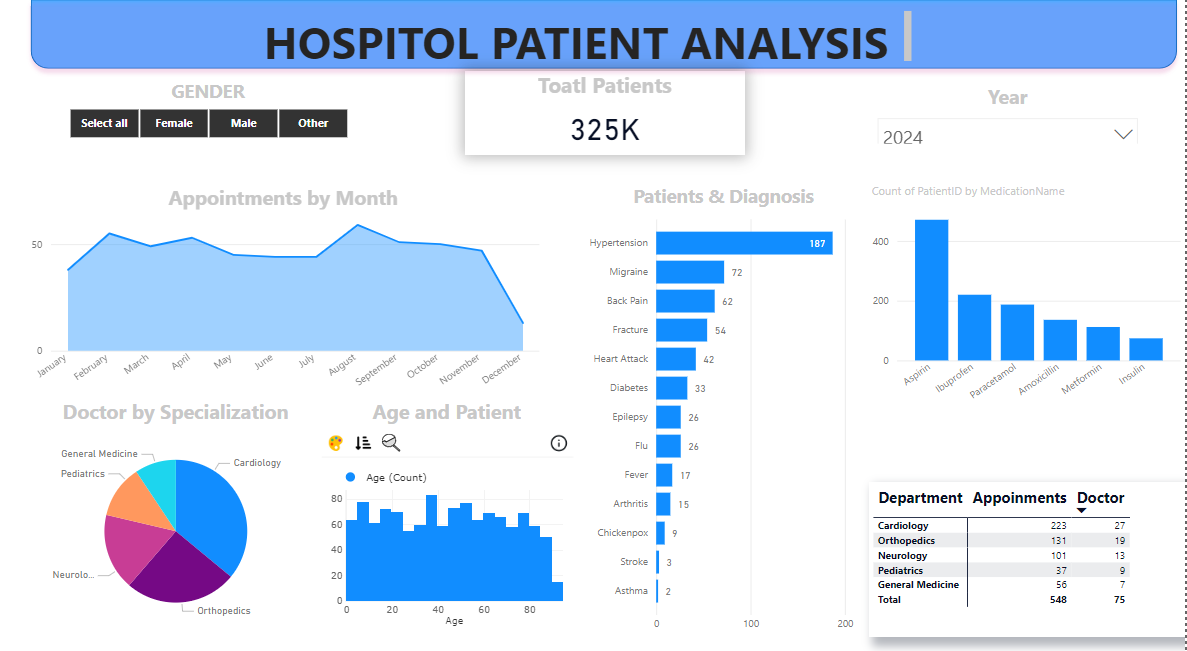

What the dashboard file says about the page in this screenshot:
{"tool":"powerbi","page":{"name":"Page 1","canvas":[1280,720],"ordinal":0},"visuals":[{"type":"pieChart","title":" Doctor by Specialization","fields":{"Y":["CountNonNull(Doctors.DoctorID)"],"Category":["Doctors.Specialization"]},"box":[49.7,438.6,278.6,259.3],"z":0},{"type":"histogramF963F133BA02A0B35D286F09F80E9C78","title":"Age and Patient","fields":{"col_2":["Patients.Age"],"__UNSUMMARIZE_BY":["Patients.PatientID"]},"box":[342.1,438.6,281.4,259.3],"z":1000},{"type":"slicer","title":"GENDER","fields":{"Values":["Patients.Gender"]},"box":[50.6,93.2,348.4,70.9],"z":2000},{"type":"pivotTable","fields":{"Rows":["Doctors.Specialization"],"Values":["CountNonNull(Appointments.PatientID)","Count(Appointments.DoctorID)"]},"box":[937.9,529.7,342.1,168.3],"z":3000},{"type":"barChart","title":"Patients & Diagnosis","fields":{"Category":["Appointments.Diagnosis"],"Y":["CountNonNull(Appointments.PatientID)"]},"box":[625.4,206.5,311.7,492.4],"z":4000},{"type":"shape","box":[24.8,0,1255.2,93.8],"z":5000},{"type":"textbox","box":[263.3,16.2,725.1,68.9],"z":6000},{"type":"lineChart","fields":{"Category":["Appointments.AppointmentDate.Variation.Date Hierarchy.Month"],"Y":["CountNonNull(Appointments.Diagnosis)"]},"box":[24.8,206.9,562.8,231.7],"z":7000},{"type":"clusteredColumnChart","fields":{"Category":["Medications.MedicationName"],"Y":["CountNonNull(Medications.PatientID)"]},"box":[935.2,206.5,343.5,246.2],"z":8000},{"type":"slicer","title":"Year","fields":{"Values":["Appointments.AppointmentDate.Variation.Date Hierarchy.Year"]},"box":[937.9,99.3,300.7,66.2],"z":9000},{"type":"card","title":"Toatl Patients","fields":{"Values":["Sum(Appointments.PatientID)"]},"box":[502.3,85.1,301.8,91.1],"z":10000}]}

Visuals, with their boxes in screenshot pixels (x1, y1, x2, y2), scaled from the page's 1280x720 canvas onto the 1187x651 screenshot:
" Doctor by Specialization" pieChart: {"x1": 46, "y1": 397, "x2": 304, "y2": 631}
"Age and Patient" histogramF963F133BA02A0B35D286F09F80E9C78: {"x1": 317, "y1": 397, "x2": 578, "y2": 631}
"GENDER" slicer: {"x1": 47, "y1": 84, "x2": 370, "y2": 148}
pivotTable - Doctors.Specialization x CountNonNull(Appointments.PatientID): {"x1": 870, "y1": 479, "x2": 1186, "y2": 631}
"Patients & Diagnosis" barChart: {"x1": 580, "y1": 187, "x2": 869, "y2": 632}
shape: {"x1": 23, "y1": 0, "x2": 1186, "y2": 85}
textbox: {"x1": 244, "y1": 15, "x2": 917, "y2": 77}
lineChart - Appointments.AppointmentDate.Variation.Date Hierarchy.Month x CountNonNull(Appointments.Diagnosis): {"x1": 23, "y1": 187, "x2": 545, "y2": 397}
clusteredColumnChart - Medications.MedicationName x CountNonNull(Medications.PatientID): {"x1": 867, "y1": 187, "x2": 1186, "y2": 409}
"Year" slicer: {"x1": 870, "y1": 90, "x2": 1149, "y2": 150}
"Toatl Patients" card: {"x1": 466, "y1": 77, "x2": 746, "y2": 159}
